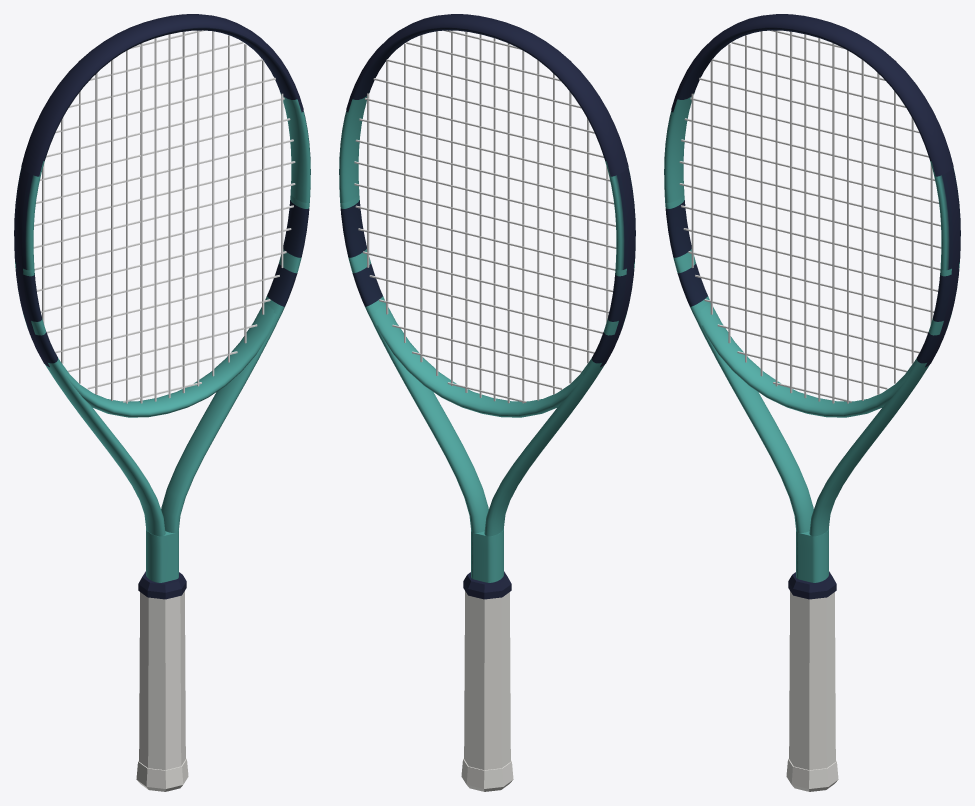
Rendered from babolat-evo-drive-lite-2025.glb.
The picture shows the model from 3 angles, left to right: view 1: azimuth 30°, elevation 25°; view 2: azimuth 150°, elevation 25°; view 3: azimuth 330°, elevation 25°; orthographic projection.
Parts seen in each view (by area): view 1: frame, strings_mains, strings_crosses, grip, bumper, grommets, butt_cap, collar; view 2: frame, strings_mains, strings_crosses, grip, bumper, grommets, butt_cap, collar; view 3: frame, strings_mains, strings_crosses, grip, bumper, grommets, butt_cap, collar.
Boxes of the visible parts, box(x1,y1,x2,y2) form: frame: box(14, 27, 310, 582); strings_mains: box(42, 30, 283, 403); strings_crosses: box(33, 30, 295, 402); grip: box(139, 591, 185, 770); bumper: box(21, 14, 303, 176); grommets: box(15, 168, 49, 367); butt_cap: box(136, 758, 188, 791); collar: box(138, 571, 186, 599); frame: box(339, 27, 635, 582); strings_mains: box(367, 30, 608, 403); strings_crosses: box(354, 30, 616, 402); grip: box(464, 591, 510, 770); bumper: box(346, 14, 628, 176); grommets: box(600, 168, 634, 367); butt_cap: box(461, 758, 513, 791); collar: box(463, 571, 511, 599); frame: box(664, 27, 960, 582); strings_mains: box(691, 30, 932, 403); strings_crosses: box(679, 30, 941, 402); grip: box(789, 591, 835, 770); bumper: box(671, 14, 953, 176); grommets: box(925, 168, 959, 367); butt_cap: box(786, 758, 838, 791); collar: box(788, 571, 836, 599).
Bounding box in the file's own units: 0.2726 × 0.6861 × 0.0396.
